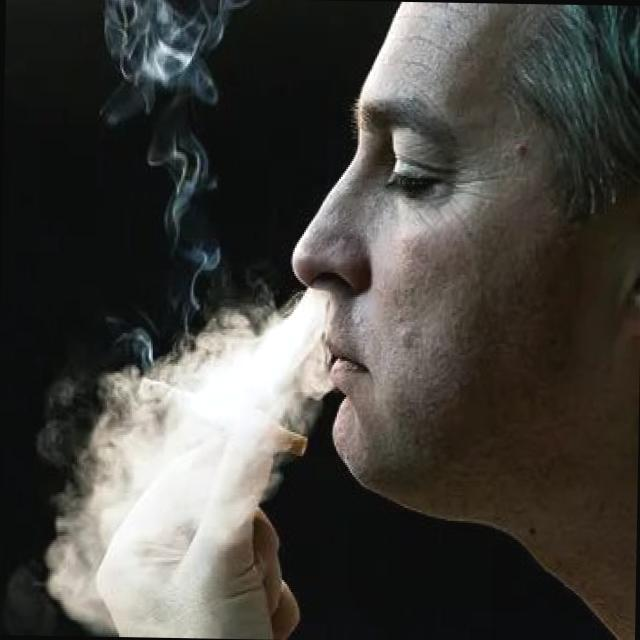smoke: (127, 368, 310, 462)
